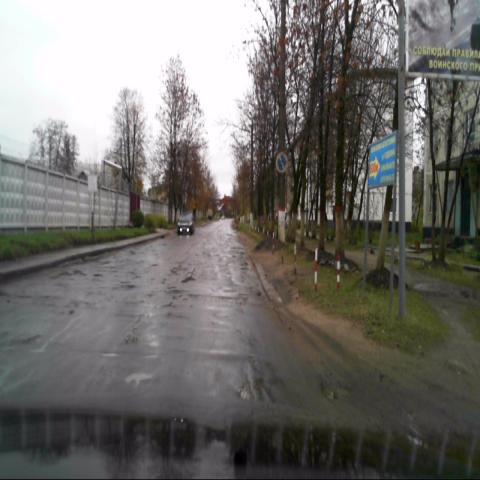3_28: (275, 152, 288, 173)
